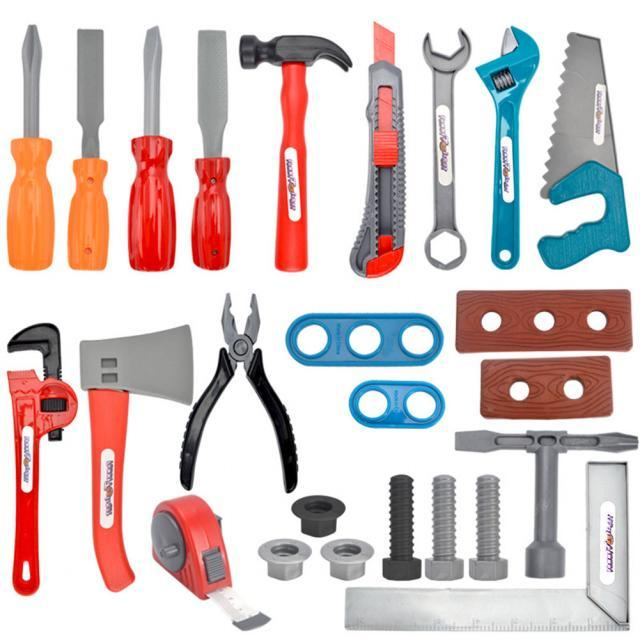hammer: (237, 32, 354, 280)
pliers: (174, 290, 301, 496)
screwdriver: (120, 20, 178, 284), (4, 20, 57, 276)
wrench: (0, 319, 80, 599), (474, 20, 545, 274), (419, 24, 478, 274)
